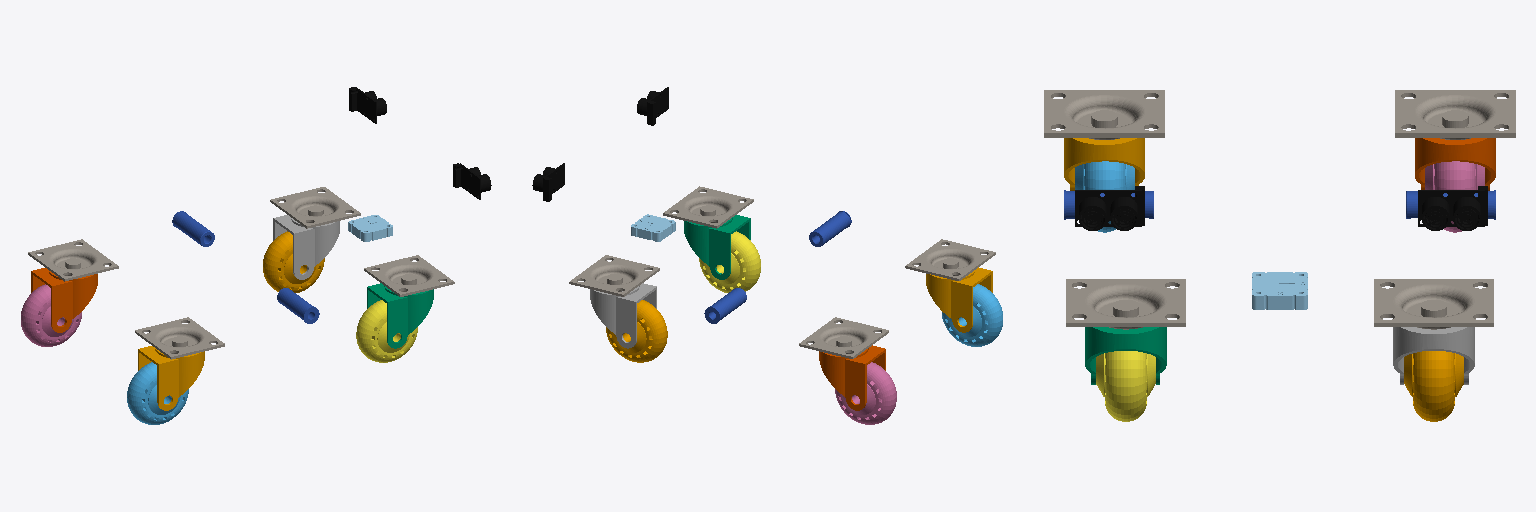
--- Render facts (derived) ---
Views: 3 orthographic renders of the robot side by side, from view 1: azimuth 30°, elevation 25°; view 2: azimuth 150°, elevation 25°; view 3: azimuth 270°, elevation 25°.
Robot: former — 26 links, 25 joints (10 continuous, 15 fixed); root link base_footprint; default pose: all joints at 0.
Links seen in each view (by area): view 1: f_l_caster_rotate, r_r_caster_rotate, r_l_caster_rotate, f_r_caster_rotate, r_l_caster_mount, f_r_caster_mount, r_r_caster_mount, f_l_caster_mount, f_r_caster_wheel, r_l_caster_wheel, r_r_caster_wheel, f_l_caster_wheel (+5 smaller); view 2: f_r_caster_rotate, r_l_caster_rotate, r_r_caster_rotate, f_l_caster_rotate, r_r_caster_mount, f_r_caster_mount, f_l_caster_mount, r_l_caster_mount, f_l_caster_wheel, r_r_caster_wheel, r_l_caster_wheel, f_r_caster_wheel (+5 smaller); view 3: r_l_caster_mount, r_r_caster_mount, f_l_caster_mount, f_r_caster_mount, f_l_caster_wheel, f_r_caster_wheel, r_sonar_sensor, l_sonar_sensor, f_l_caster_rotate, f_r_caster_rotate, r_l_caster_rotate, r_r_caster_rotate (+5 smaller).
Link boxes in pixels (x1,y1,x2,y2): f_l_caster_rotate: (273,215,339,279); r_r_caster_rotate: (138,346,204,410); r_l_caster_rotate: (31,268,97,332); f_r_caster_rotate: (367,283,433,348); r_l_caster_mount: (28,239,118,281); f_r_caster_mount: (364,255,454,296); r_r_caster_mount: (135,317,224,359); f_l_caster_mount: (270,187,360,228); f_r_caster_wheel: (356,300,417,362); r_l_caster_wheel: (21,284,81,346); r_r_caster_wheel: (127,362,188,424); f_l_caster_wheel: (263,231,324,292); f_r_caster_rotate: (684,215,750,279); r_l_caster_rotate: (819,345,885,410); r_r_caster_rotate: (926,267,992,332); f_l_caster_rotate: (590,283,656,348); r_r_caster_mount: (905,239,995,280); f_r_caster_mount: (663,186,753,228); f_l_caster_mount: (569,255,659,296); r_l_caster_mount: (799,317,888,358); f_l_caster_wheel: (606,300,667,362); r_r_caster_wheel: (942,284,1002,346); r_l_caster_wheel: (835,362,896,424); f_r_caster_wheel: (699,231,760,292); r_l_caster_mount: (1395,90,1515,139); r_r_caster_mount: (1044,90,1164,139); f_l_caster_mount: (1374,279,1493,329); f_r_caster_mount: (1066,279,1185,329); f_l_caster_wheel: (1404,351,1463,421); f_r_caster_wheel: (1096,351,1155,421); r_sonar_sensor: (1075,186,1144,230); l_sonar_sensor: (1418,186,1487,230); f_l_caster_rotate: (1393,327,1474,384); f_r_caster_rotate: (1085,327,1166,384); r_l_caster_rotate: (1415,138,1495,190); r_r_caster_rotate: (1064,138,1144,190).
Bounding box of the posed robot: 0.3809 × 0.266 × 0.1795 m (x, y, z).
17 mesh visuals loaded from 10 distinct referenced files (6 Collada DAE); not drawn: 5 (reference not matched to a file when rendering).

URDF robot description (former):
<?xml version="1.0" ?>
<!-- =================================================================================== -->
<!-- |    This document was autogenerated by xacro from robot.urdf.xacro               | -->
<!-- |    EDITING THIS FILE BY HAND IS NOT RECOMMENDED                                 | -->
<!-- =================================================================================== -->
<robot name="former">
  <!-- <gazebo>
        <plugin filename="gz_ros2_control-system" name="gz_ros2_control::GazeboSimROS2ControlPlugin">
            <robot_param>robot_description</robot_param>
            <parameters>$(find former_bringup)/config/controllers_former_gazebo.yaml</parameters>
        </plugin>

        <plugin filename="gz-sim-sensors-system" name="gz::sim::systems::Sensors">
            <render_engine>ogre2</render_engine>
        </plugin>

        <plugin filename="gz-sim-imu-system" name="gz::sim::systems::Imu">
        </plugin>
    </gazebo> -->
  <gazebo reference="l_wheel">
    <mu1>200</mu1>
    <mu2>200</mu2>
    <kp>10000000.0</kp>
    <kd>1.0</kd>
    <!-- <minDepth>0.001</minDepth> -->
  </gazebo>
  <gazebo reference="r_wheel">
    <mu1>200</mu1>
    <mu2>200</mu2>
    <kp>10000000.0</kp>
    <kd>1.0</kd>
    <!-- <minDepth>0.001</minDepth> -->
  </gazebo>
  <gazebo reference="f_l_caster_wheel">
    <mu1>1</mu1>
    <mu2>1</mu2>
    <kp>10000000.0</kp>
    <kd>1.0</kd>
    <!-- <minDepth>0.001</minDepth> -->
  </gazebo>
  <gazebo reference="f_r_caster_wheel">
    <mu1>1</mu1>
    <mu2>1</mu2>
    <kp>10000000.0</kp>
    <kd>1.0</kd>
    <!-- <minDepth>0.001</minDepth> -->
  </gazebo>
  <gazebo reference="r_l_caster_wheel">
    <mu1>1</mu1>
    <mu2>1</mu2>
    <kp>10000000.0</kp>
    <kd>1.0</kd>
    <!-- <minDepth>0.001</minDepth> -->
  </gazebo>
  <gazebo reference="r_r_caster_wheel">
    <mu1>1</mu1>
    <mu2>1</mu2>
    <kp>10000000.0</kp>
    <kd>1.0</kd>
    <!-- <minDepth>0.001</minDepth> -->
  </gazebo>
  <gazebo reference="base_footprint">
    <self_collide>0</self_collide>
  </gazebo>
  <!-- <gazebo reference="laser_link">
        <sensor name="laser_link" type="gpu_lidar">
            <topic>scan</topic>
            <update_rate>15</update_rate>
            <alwaysOn>1</alwaysOn>
            <visualize>true</visualize>

            <lidar>
                <scan>
                    <horizontal>
                        <samples>640</samples>
                        <resolution>1</resolution>
                        <min_angle>${-110/180*pi}</min_angle>
                        <max_angle>${110/180*pi}</max_angle>
                    </horizontal>
                    <vertical>
                        <samples>1</samples>
                        <resolution>0.01</resolution>
                        <min_angle>0</min_angle>
                        <max_angle>0</max_angle>
                    </vertical>
                </scan>
                <range>
                    <min>0.08</min>
                    <max>15.0</max>
                    <resolution>0.01</resolution>
                </range>
                <noise>
                    <type>gaussian</type>
                    <mean>0.0</mean>
                    <stddev>0.02</stddev>
                </noise>
            </lidar>
        </sensor>
    </gazebo>

    <gazebo reference="imu_link">
        <sensor name="imu" type="imu">
            <always_on>1</always_on>
            <update_rate>100</update_rate>
            <visualize>true</visualize>
            <topic>imu</topic>
            <enable_metrics>true</enable_metrics>
        </sensor>
    </gazebo>
<gazebo reference="laser_link">
        <sensor name="laser_link" type="gpu_lidar">
            <topic>scan</topic>
            <update_rate>15</update_rate>
            <alwaysOn>1</alwaysOn>
            <visualize>true</visualize>

            <lidar>
                <scan>
                    <horizontal>
                        <samples>640</samples>
                        <resolution>1</resolution>
                        <min_angle>${-110/180*pi}</min_angle>
                        <max_angle>${110/180*pi}</max_angle>
                    </horizontal>
                    <vertical>
                        <samples>1</samples>
                        <resolution>0.01</resolution>
                        <min_angle>0</min_angle>
                        <max_angle>0</max_angle>
                    </vertical>
                </scan>
                <range>
                    <min>0.08</min>
                    <max>15.0</max>
                    <resolution>0.01</resolution>
                </range>
                <noise>
                    <type>gaussian</type>
                    <mean>0.0</mean>
                    <stddev>0.02</stddev>
                </noise>
            </lidar>
        </sensor>
    </gazebo>

    <gazebo reference="imu_link">
        <sensor name="imu" type="imu">
            <always_on>1</always_on>
            <update_rate>100</update_rate>
            <visualize>true</visualize>
            <topic>imu</topic>
            <enable_metrics>true</enable_metrics>
        </sensor>
    </gazebo>

    <gazebo reference="camera_link">
        <sensor name="rgbd_camera" type="rgbd_camera">
            <always_on>1</always_on>
            <update_rate>30</update_rate>
            <visualize>true</visualize>
            <topic>camera</topic>
            <enable_metrics>true</enable_metrics>
            <camera>
                <horizontal_fov>1.047</horizontal_fov>
                <image>
                    <width>640</width>
                    <height>480</height>
                </image>
                <clip>
                    <near>0.1</near>
                    <far>100</far>
                </clip>
            </camera>
            <noise>
                <type>gaussian</type>
                <mean>0.0</mean>
                <stddev>0.02</stddev>
            </noise>
        </sensor>
    </gazebo>
    <gazebo reference="camera_link">
        <sensor name="rgbd_camera" type="rgbd_camera">
            <always_on>1</always_on>
            <update_rate>30</update_rate>
            <visualize>true</visualize>
            <topic>camera</topic>
            <enable_metrics>true</enable_metrics>
            <camera>
                <horizontal_fov>1.047</horizontal_fov>
                <image>
                    <width>640</width>
                    <height>480</height>
                </image>
                <clip>
                    <near>0.1</near>
                    <far>100</far>
                </clip>
            </camera>
            <noise>
                <type>gaussian</type>
                <mean>0.0</mean>
                <stddev>0.02</stddev>
            </noise>
        </sensor>
    </gazebo> -->
  <material name="aluminum">
    <color rgba="0.5 0.5 0.5 1"/>
  </material>
  <material name="plastic">
    <color rgba="0.1 0.1 0.1 1"/>
  </material>
  <link name="base_footprint"/>
  <link name="base_link">
    <visual>
      <origin rpy="0 0 0" xyz="0 0 0"/>
      <geometry>
        <mesh filename="package://former_description/meshes/visual/base_link.dae" scale="1 1 1"/>
      </geometry>
    </visual>
    <collision>
      <origin rpy="0 0 0" xyz="0 0 0"/>
      <geometry>
        <mesh filename="package://former_description/meshes/collision/base_link.stl" scale="1 1 1"/>
      </geometry>
    </collision>
    <inertial>
      <origin rpy="0 0 0" xyz="0.000 0.000 0.096"/>
      <mass value="32.571233"/>
      <inertia ixx="0.639569" ixy="0.000014" ixz="0.000423" iyy="0.635798" iyz="0.000003" izz="0.798308"/>
    </inertial>
  </link>
  <joint name="base_link_fixed_joint" type="fixed">
    <parent link="base_footprint"/>
    <child link="base_link"/>
    <origin rpy="0 0 0" xyz="0 0 0.0845"/>
  </joint>
  <link name="l_wheel_mount">
    <visual>
      <origin rpy="0 0 1.5707963267948966" xyz="0 0 0"/>
      <geometry>
        <mesh filename="package://former_description/meshes/visual/main_wheel_mount.dae" scale="1 1 1"/>
      </geometry>
    </visual>
    <collision>
      <origin rpy="0 0 1.5707963267948966" xyz="0 0 0"/>
      <geometry>
        <mesh filename="package://former_description/meshes/collision/main_wheel_mount.stl" scale="1 1 1"/>
      </geometry>
    </collision>
    <inertial>
      <origin rpy="0 0 1.5707963267948966" xyz="0.026 0.000 0.000"/>
      <mass value="0.007885"/>
      <inertia ixx="0.000000" ixy="0.000000" ixz="0.000000" iyy="0.000002" iyz="0.000000" izz="0.000002"/>
    </inertial>
  </link>
  <joint name="l_wheel_mount_fixed" type="fixed">
    <parent link="base_link"/>
    <child link="l_wheel_mount"/>
    <origin rpy="0 0 0" xyz="0 0.0711 0"/>
  </joint>
  <link name="l_wheel">
    <visual>
      <origin rpy="0 0 1.5707963267948966" xyz="0 0 0"/>
      <geometry>
        <mesh filename="package://former_description/meshes/visual/main_wheel.dae" scale="1 1 1"/>
      </geometry>
    </visual>
    <collision>
      <!-- <origin xyz="0 ${dir*0.025} 0" rpy="${dir*pi/2} 0 0"/> -->
      <origin rpy="0 0 1.5707963267948966" xyz="0 0 0"/>
      <geometry>
        <!-- <cylinder radius="0.0845" length="0.05"/> -->
        <mesh filename="package://former_description/meshes/collision/main_wheel.stl" scale="1 1 1"/>
      </geometry>
    </collision>
    <inertial>
      <!-- <origin xyz="0 ${dir*0.025} 0" rpy="${dir*pi/2} 0 0"/> -->
      <origin rpy="0 0 0" xyz="0.000 0.031 0.000"/>
      <mass value="0.843041"/>
      <!-- <xacro:cylinder_inertia m="0.843041" r="0.0845" h="0.05"/> -->
      <inertia ixx="0.002632" ixy="0.000000" ixz="0.000000" iyy="0.001536" iyz="0.000000" izz="0.001536"/>
    </inertial>
  </link>
  <joint name="l_wheel_joint" type="continuous">
    <parent link="l_wheel_mount"/>
    <child link="l_wheel"/>
    <axis xyz="0 1 0"/>
    <origin rpy="0 0 0" xyz="0 0.051 0"/>
  </joint>
  <link name="r_wheel_mount">
    <visual>
      <origin rpy="0 0 -1.5707963267948966" xyz="0 0 0"/>
      <geometry>
        <mesh filename="package://former_description/meshes/visual/main_wheel_mount.dae" scale="1 1 1"/>
      </geometry>
    </visual>
    <collision>
      <origin rpy="0 0 -1.5707963267948966" xyz="0 0 0"/>
      <geometry>
        <mesh filename="package://former_description/meshes/collision/main_wheel_mount.stl" scale="1 1 1"/>
      </geometry>
    </collision>
    <inertial>
      <origin rpy="0 0 -1.5707963267948966" xyz="0.026 0.000 0.000"/>
      <mass value="0.007885"/>
      <inertia ixx="0.000000" ixy="0.000000" ixz="0.000000" iyy="0.000002" iyz="0.000000" izz="0.000002"/>
    </inertial>
  </link>
  <joint name="r_wheel_mount_fixed" type="fixed">
    <parent link="base_link"/>
    <child link="r_wheel_mount"/>
    <origin rpy="0 0 0" xyz="0 -0.0711 0"/>
  </joint>
  <link name="r_wheel">
    <visual>
      <origin rpy="0 0 -1.5707963267948966" xyz="0 0 0"/>
      <geometry>
        <mesh filename="package://former_description/meshes/visual/main_wheel.dae" scale="1 1 1"/>
      </geometry>
    </visual>
    <collision>
      <!-- <origin xyz="0 ${dir*0.025} 0" rpy="${dir*pi/2} 0 0"/> -->
      <origin rpy="0 0 -1.5707963267948966" xyz="0 0 0"/>
      <geometry>
        <!-- <cylinder radius="0.0845" length="0.05"/> -->
        <mesh filename="package://former_description/meshes/collision/main_wheel.stl" scale="1 1 1"/>
      </geometry>
    </collision>
    <inertial>
      <!-- <origin xyz="0 ${dir*0.025} 0" rpy="${dir*pi/2} 0 0"/> -->
      <origin rpy="0 0 0" xyz="0.000 -0.031 0.000"/>
      <mass value="0.843041"/>
      <!-- <xacro:cylinder_inertia m="0.843041" r="0.0845" h="0.05"/> -->
      <inertia ixx="0.002632" ixy="0.000000" ixz="0.000000" iyy="0.001536" iyz="0.000000" izz="0.001536"/>
    </inertial>
  </link>
  <joint name="r_wheel_joint" type="continuous">
    <parent link="r_wheel_mount"/>
    <child link="r_wheel"/>
    <axis xyz="0 1 0"/>
    <origin rpy="0 0 0" xyz="0 -0.051 0"/>
  </joint>
  <link name="f_l_caster_mount">
    <visual>
      <origin rpy="0 0 0" xyz="0 0 0"/>
      <geometry>
        <mesh filename="package://former_description/meshes/visual/caster_mount.dae" scale="1 1 1"/>
      </geometry>
    </visual>
    <collision>
      <origin rpy="0 0 0" xyz="0 0 0"/>
      <geometry>
        <mesh filename="package://former_description/meshes/collision/caster_mount.stl" scale="1 1 1"/>
      </geometry>
    </collision>
    <inertial>
      <origin rpy="0 0 0" xyz="0.000 0.000 -0.004"/>
      <mass value="0.019629"/>
      <inertia ixx="0.000006" ixy="0.000000" ixz="0.000000" iyy="0.000005" iyz="0.000000" izz="0.000010"/>
    </inertial>
  </link>
  <joint name="f_l_caster_mount_fixed_joint" type="fixed">
    <parent link="base_link"/>
    <child link="f_l_caster_mount"/>
    <origin rpy="0 0 0" xyz="0.125 0.087 -0.0015"/>
  </joint>
  <link name="f_l_caster_rotate">
    <visual>
      <origin rpy="0 0 0" xyz="0 0 0"/>
      <geometry>
        <mesh filename="package://former_description/meshes/visual/caster_rotate.dae" scale="1 1 1"/>
      </geometry>
    </visual>
    <collision>
      <origin rpy="0 0 0" xyz="0 0 0"/>
      <geometry>
        <mesh filename="package://former_description/meshes/collision/caster_rotate.stl" scale="1 1 1"/>
      </geometry>
    </collision>
    <inertial>
      <origin rpy="0 0 0" xyz="-0.012 0.000 -0.021"/>
      <mass value="0.060591"/>
      <inertia ixx="0.000020" ixy="0.000000" ixz="-0.000004" iyy="0.000022" iyz="0.000000" izz="0.000020"/>
    </inertial>
  </link>
  <joint name="f_l_caster_rotate_joint" type="continuous">
    <parent link="f_l_caster_mount"/>
    <child link="f_l_caster_rotate"/>
    <axis xyz="0 0 1"/>
    <origin rpy="0 0 0" xyz="0 0 -0.010"/>
  </joint>
  <link name="f_l_caster_wheel">
    <visual>
      <origin rpy="0 0 0" xyz="0 0 0"/>
      <geometry>
        <mesh filename="package://former_description/meshes/visual/caster_wheel.dae" scale="1 1 1"/>
      </geometry>
    </visual>
    <collision>
      <origin rpy="0 0 0" xyz="0 0 0"/>
      <geometry>
        <mesh filename="package://former_description/meshes/collision/caster_wheel.stl" scale="1 1 1"/>
        <!-- <cylinder radius="0.0375" length="0.023"/> -->
      </geometry>
    </collision>
    <inertial>
      <origin rpy="0 0 0" xyz="0.000 0.000 0.000"/>
      <mass value="0.051842"/>
      <!-- <xacro:cylinder_inertia m="0.032222" r="0.0375" h="0.023"/> -->
      <inertia ixx="0.000013" ixy="0.000000" ixz="0.000000" iyy="0.000021" iyz="0.000000" izz="0.000013"/>
    </inertial>
  </link>
  <joint name="f_l_caster_wheel_joint" type="continuous">
    <parent link="f_l_caster_rotate"/>
    <child link="f_l_caster_wheel"/>
    <axis xyz="0 1 0"/>
    <origin rpy="0 0 0" xyz="-0.0235 0 -0.0415"/>
  </joint>
  <link name="f_r_caster_mount">
    <visual>
      <origin rpy="0 0 0" xyz="0 0 0"/>
      <geometry>
        <mesh filename="package://former_description/meshes/visual/caster_mount.dae" scale="1 1 1"/>
      </geometry>
    </visual>
    <collision>
      <origin rpy="0 0 0" xyz="0 0 0"/>
      <geometry>
        <mesh filename="package://former_description/meshes/collision/caster_mount.stl" scale="1 1 1"/>
      </geometry>
    </collision>
    <inertial>
      <origin rpy="0 0 0" xyz="0.000 0.000 -0.004"/>
      <mass value="0.019629"/>
      <inertia ixx="0.000006" ixy="0.000000" ixz="0.000000" iyy="0.000005" iyz="0.000000" izz="0.000010"/>
    </inertial>
  </link>
  <joint name="f_r_caster_mount_fixed_joint" type="fixed">
    <parent link="base_link"/>
    <child link="f_r_caster_mount"/>
    <origin rpy="0 0 0" xyz="0.125 -0.087 -0.0015"/>
  </joint>
  <link name="f_r_caster_rotate">
    <visual>
      <origin rpy="0 0 0" xyz="0 0 0"/>
      <geometry>
        <mesh filename="package://former_description/meshes/visual/caster_rotate.dae" scale="1 1 1"/>
      </geometry>
    </visual>
    <collision>
      <origin rpy="0 0 0" xyz="0 0 0"/>
      <geometry>
        <mesh filename="package://former_description/meshes/collision/caster_rotate.stl" scale="1 1 1"/>
      </geometry>
    </collision>
    <inertial>
      <origin rpy="0 0 0" xyz="-0.012 0.000 -0.021"/>
      <mass value="0.060591"/>
      <inertia ixx="0.000020" ixy="0.000000" ixz="-0.000004" iyy="0.000022" iyz="0.000000" izz="0.000020"/>
    </inertial>
  </link>
  <joint name="f_r_caster_rotate_joint" type="continuous">
    <parent link="f_r_caster_mount"/>
    <child link="f_r_caster_rotate"/>
    <axis xyz="0 0 1"/>
    <origin rpy="0 0 0" xyz="0 0 -0.010"/>
  </joint>
  <link name="f_r_caster_wheel">
    <visual>
      <origin rpy="0 0 0" xyz="0 0 0"/>
      <geometry>
        <mesh filename="package://former_description/meshes/visual/caster_wheel.dae" scale="1 1 1"/>
      </geometry>
    </visual>
    <collision>
      <origin rpy="0 0 0" xyz="0 0 0"/>
      <geometry>
        <mesh filename="package://former_description/meshes/collision/caster_wheel.stl" scale="1 1 1"/>
        <!-- <cylinder radius="0.0375" length="0.023"/> -->
      </geometry>
    </collision>
    <inertial>
      <origin rpy="0 0 0" xyz="0.000 0.000 0.000"/>
      <mass value="0.051842"/>
      <!-- <xacro:cylinder_inertia m="0.032222" r="0.0375" h="0.023"/> -->
      <inertia ixx="0.000013" ixy="0.000000" ixz="0.000000" iyy="0.000021" iyz="0.000000" izz="0.000013"/>
    </inertial>
  </link>
  <joint name="f_r_caster_wheel_joint" type="continuous">
    <parent link="f_r_caster_rotate"/>
    <child link="f_r_caster_wheel"/>
    <axis xyz="0 1 0"/>
    <origin rpy="0 0 0" xyz="-0.0235 0 -0.0415"/>
  </joint>
  <link name="r_l_caster_mount">
    <visual>
      <origin rpy="0 0 0" xyz="0 0 0"/>
      <geometry>
        <mesh filename="package://former_description/meshes/visual/caster_mount.dae" scale="1 1 1"/>
      </geometry>
    </visual>
    <collision>
      <origin rpy="0 0 0" xyz="0 0 0"/>
      <geometry>
        <mesh filename="package://former_description/meshes/collision/caster_mount.stl" scale="1 1 1"/>
      </geometry>
    </collision>
    <inertial>
      <origin rpy="0 0 0" xyz="0.000 0.000 -0.004"/>
      <mass value="0.019629"/>
      <inertia ixx="0.000006" ixy="0.000000" ixz="0.000000" iyy="0.000005" iyz="0.000000" izz="0.000010"/>
    </inertial>
  </link>
  <joint name="r_l_caster_mount_fixed_joint" type="fixed">
    <parent link="base_link"/>
    <child link="r_l_caster_mount"/>
    <origin rpy="0 0 0" xyz="-0.128 0.099 -0.0015"/>
  </joint>
  <link name="r_l_caster_rotate">
    <visual>
      <origin rpy="0 0 0" xyz="0 0 0"/>
      <geometry>
        <mesh filename="package://former_description/meshes/visual/caster_rotate.dae" scale="1 1 1"/>
      </geometry>
    </visual>
    <collision>
      <origin rpy="0 0 0" xyz="0 0 0"/>
      <geometry>
        <mesh filename="package://former_description/meshes/collision/caster_rotate.stl" scale="1 1 1"/>
      </geometry>
    </collision>
    <inertial>
      <origin rpy="0 0 0" xyz="-0.012 0.000 -0.021"/>
      <mass value="0.060591"/>
      <inertia ixx="0.000020" ixy="0.000000" ixz="-0.000004" iyy="0.000022" iyz="0.000000" izz="0.000020"/>
    </inertial>
  </link>
  <joint name="r_l_caster_rotate_joint" type="continuous">
    <parent link="r_l_caster_mount"/>
    <child link="r_l_caster_rotate"/>
    <axis xyz="0 0 1"/>
    <origin rpy="0 0 0" xyz="0 0 -0.010"/>
  </joint>
  <link name="r_l_caster_wheel">
    <visual>
      <origin rpy="0 0 0" xyz="0 0 0"/>
      <geometry>
        <mesh filename="package://former_description/meshes/visual/caster_wheel.dae" scale="1 1 1"/>
      </geometry>
    </visual>
    <collision>
      <origin rpy="0 0 0" xyz="0 0 0"/>
      <geometry>
        <mesh filename="package://former_description/meshes/collision/caster_wheel.stl" scale="1 1 1"/>
        <!-- <cylinder radius="0.0375" length="0.023"/> -->
      </geometry>
    </collision>
    <inertial>
      <origin rpy="0 0 0" xyz="0.000 0.000 0.000"/>
      <mass value="0.051842"/>
      <!-- <xacro:cylinder_inertia m="0.032222" r="0.0375" h="0.023"/> -->
      <inertia ixx="0.000013" ixy="0.000000" ixz="0.000000" iyy="0.000021" iyz="0.000000" izz="0.000013"/>
    </inertial>
  </link>
  <joint name="r_l_caster_wheel_joint" type="continuous">
    <parent link="r_l_caster_rotate"/>
    <child link="r_l_caster_wheel"/>
    <axis xyz="0 1 0"/>
    <origin rpy="0 0 0" xyz="-0.0235 0 -0.0415"/>
  </joint>
  <link name="r_r_caster_mount">
    <visual>
      <origin rpy="0 0 0" xyz="0 0 0"/>
      <geometry>
        <mesh filename="package://former_description/meshes/visual/caster_mount.dae" scale="1 1 1"/>
      </geometry>
    </visual>
    <collision>
      <origin rpy="0 0 0" xyz="0 0 0"/>
      <geometry>
        <mesh filename="package://former_description/meshes/collision/caster_mount.stl" scale="1 1 1"/>
      </geometry>
    </collision>
    <inertial>
      <origin rpy="0 0 0" xyz="0.000 0.000 -0.004"/>
      <mass value="0.019629"/>
      <inertia ixx="0.000006" ixy="0.000000" ixz="0.000000" iyy="0.000005" iyz="0.000000" izz="0.000010"/>
    </inertial>
  </link>
  <joint name="r_r_caster_mount_fixed_joint" type="fixed">
    <parent link="base_link"/>
    <child link="r_r_caster_mount"/>
    <origin rpy="0 0 0" xyz="-0.128 -0.099 -0.0015"/>
  </joint>
  <link name="r_r_caster_rotate">
    <visual>
      <origin rpy="0 0 0" xyz="0 0 0"/>
      <geometry>
        <mesh filename="package://former_description/meshes/visual/caster_rotate.dae" scale="1 1 1"/>
      </geometry>
    </visual>
    <collision>
      <origin rpy="0 0 0" xyz="0 0 0"/>
      <geometry>
        <mesh filename="package://former_description/meshes/collision/caster_rotate.stl" scale="1 1 1"/>
      </geometry>
    </collision>
    <inertial>
      <origin rpy="0 0 0" xyz="-0.012 0.000 -0.021"/>
      <mass value="0.060591"/>
      <inertia ixx="0.000020" ixy="0.000000" ixz="-0.000004" iyy="0.000022" iyz="0.000000" izz="0.000020"/>
    </inertial>
  </link>
  <joint name="r_r_caster_rotate_joint" type="continuous">
    <parent link="r_r_caster_mount"/>
    <child link="r_r_caster_rotate"/>
    <axis xyz="0 0 1"/>
    <origin rpy="0 0 0" xyz="0 0 -0.010"/>
  </joint>
  <link name="r_r_caster_wheel">
    <visual>
      <origin rpy="0 0 0" xyz="0 0 0"/>
      <geometry>
        <mesh filename="package://former_description/meshes/visual/caster_wheel.dae" scale="1 1 1"/>
      </geometry>
    </visual>
    <collision>
      <origin rpy="0 0 0" xyz="0 0 0"/>
      <geometry>
        <mesh filename="package://former_description/meshes/collision/caster_wheel.stl" scale="1 1 1"/>
        <!-- <cylinder radius="0.0375" length="0.023"/> -->
      </geometry>
    </collision>
    <inertial>
      <origin rpy="0 0 0" xyz="0.000 0.000 0.000"/>
      <mass value="0.051842"/>
      <!-- <xacro:cylinder_inertia m="0.032222" r="0.0375" h="0.023"/> -->
      <inertia ixx="0.000013" ixy="0.000000" ixz="0.000000" iyy="0.000021" iyz="0.000000" izz="0.000013"/>
    </inertial>
  </link>
  <joint name="r_r_caster_wheel_joint" type="continuous">
    <parent link="r_r_caster_rotate"/>
    <child link="r_r_caster_wheel"/>
    <axis xyz="0 1 0"/>
    <origin rpy="0 0 0" xyz="-0.0235 0 -0.0415"/>
  </joint>
  <link name="imu_sensor">
    <visual>
      <origin rpy="0 0 0" xyz="0 0 0"/>
      <geometry>
        <mesh filename="package://former_description/meshes/visual/imu.dae" scale="1 1 1"/>
      </geometry>
    </visual>
    <collision>
      <origin rpy="0 0 0" xyz="0 0 0"/>
      <geometry>
        <mesh filename="package://former_description/meshes/collision/imu.stl" scale="1 1 1"/>
      </geometry>
    </collision>
    <inertial>
      <origin rpy="0 0 0" xyz="0.0 0.0 0.0045"/>
      <mass value="0.1"/>
      <inertia ixx="2.9466666666666663e-06" ixy="0" ixz="0" iyy="2.9466666666666663e-06" iyz="0" izz="5.461333333333334e-06"/>
    </inertial>
  </link>
  <joint name="imu_sensor_fixed_joint" type="fixed">
    <parent link="base_link"/>
    <child link="imu_sensor"/>
    <origin rpy="0 0 0" xyz="0.134 0 0.0045"/>
  </joint>
  <link name="imu_link"/>
  <joint name="imu_link_fixed_joint" type="fixed">
    <parent link="imu_sensor"/>
    <child link="imu_link"/>
    <origin xyz="0.0 0.0 0.009"/>
  </joint>
  <link name="l_sonar_sensor">
    <visual>
      <origin rpy="0 0 0" xyz="0 0 0"/>
      <geometry>
        <mesh filename="package://former_description/meshes/visual/sonar_sensor.dae" scale="1 1 1"/>
      </geometry>
    </visual>
    <collision>
      <origin rpy="0 0 0" xyz="0 0 0"/>
      <geometry>
        <mesh filename="package://former_description/meshes/collision/sonar_sensor.stl" scale="1 1 1"/>
      </geometry>
    </collision>
    <inertial>
      <origin rpy="0 0 0" xyz="0.004 0.002 0.000"/>
      <mass value="0.009290"/>
      <inertia ixx="0.000001" ixy="0.000000" ixz="0.000000" iyy="0.000001" iyz="0.000000" izz="0.000001"/>
    </inertial>
  </link>
  <joint name="l_sonar_sensor_fixed" type="fixed">
    <parent link="base_link"/>
    <child link="l_sonar_sensor"/>
    <origin rpy="0 0 0" xyz="0.184 0.0968 0.084"/>
  </joint>
  <link name="r_sonar_sensor">
    <visual>
      <origin rpy="0 0 0" xyz="0 0 0"/>
      <geometry>
        <mesh filename="package://former_description/meshes/visual/sonar_sensor.dae" scale="1 1 1"/>
      </geometry>
    </visual>
    <collision>
      <origin rpy="0 0 0" xyz="0 0 0"/>
      <geometry>
        <mesh filename="package://former_description/meshes/collision/sonar_sensor.stl" scale="1 1 1"/>
      </geometry>
    </collision>
    <inertial>
      <origin rpy="0 0 0" xyz="0.004 0.002 0.000"/>
      <mass value="0.009290"/>
      <inertia ixx="0.000001" ixy="0.000000" ixz="0.000000" iyy="0.000001" iyz="0.000000" izz="0.000001"/>
    </inertial>
  </link>
  <joint name="r_sonar_sensor_fixed" type="fixed">
    <parent link="base_link"/>
    <child link="r_sonar_sensor"/>
    <origin rpy="0 0 0" xyz="0.184 -0.0968 0.084"/>
  </joint>
  <link name="lidar_mount">
    <visual>
      <origin rpy="0 0 0" xyz="0 0 0"/>
      <geometry>
        <mesh filename="package://former_description/meshes/visual/sick_tim5_lidar.dae" scale="1 1 1"/>
      </geometry>
    </visual>
    <collision>
      <origin rpy="0 0 0" xyz="0 0 0"/>
      <geometry>
        <mesh filename="package://former_description/meshes/collision/sick_tim5_lidar.stl" scale="1 1 1"/>
      </geometry>
    </collision>
    <inertial>
      <origin rpy="0 0 0" xyz="-0.002 0.000 0.036"/>
      <mass value="0.180090"/>
      <inertia ixx="0.000139" ixy="0.000000" ixz="0.000002" iyy="0.000129" iyz="0.000000" izz="0.000094"/>
    </inertial>
  </link>
  <joint name="lidar_mount_fixed_joint" type="fixed">
    <parent link="base_link"/>
    <child link="lidar_mount"/>
    <origin rpy="3.141592653589793 0 0" xyz="0.160 0 0.2275"/>
  </joint>
  <link name="laser_link"/>
  <joint name="laser_link_fixed_joint" type="fixed">
    <parent link="lidar_mount"/>
    <child link="laser_link"/>
    <origin rpy="3.141592653589793 0 0" xyz="0 0 0.060"/>
  </joint>
  <!-- camera body, with origin at bottom screw mount -->
  <joint name="camera_joint" type="fixed">
    <origin rpy="0 -0.2617993877991494 0" xyz="0.1777 0 0.06715"/>
    <parent link="base_link"/>
    <child link="camera_bottom_screw_frame"/>
  </joint>
  <link name="camera_bottom_screw_frame"/>
  <joint name="camera_link_joint" type="fixed">
    <origin rpy="0 0 0" xyz="0.010600000000000002 0.0175 0.0125"/>
    <parent link="camera_bottom_screw_frame"/>
    <child link="camera_link"/>
  </joint>
  <link name="camera_link">
    <visual>
      <!-- the mesh origin is at front plate in between the two infrared camera axes -->
      <origin rpy="1.5707963267948966 0 1.5707963267948966" xyz="0.0043 -0.0175 0"/>
      <geometry>
        <mesh filename="package://realsense2_description/meshes/d435.dae"/>
      </geometry>
    </visual>
    <collision>
      <origin rpy="0 0 0" xyz="0 -0.0175 0"/>
      <geometry>
        <box size="0.02505 0.09 0.025"/>
      </geometry>
    </collision>
    <inertial>
      <!-- The following are not reliable values, and should not be used for modeling -->
      <mass value="0.072"/>
      <origin xyz="0 0 0"/>
      <inertia ixx="0.003881243" ixy="0.0" ixz="0.0" iyy="0.000498940" iyz="0.0" izz="0.003879257"/>
    </inertial>
  </link>
  <ros2_control name="former_system" type="system">
    <!-- Real robot hardware_interface -->
    <joint name="l_wheel_joint">
      <command_interface name="velocity">
        <param name="min">-1.0</param>
        <param name="max">1.0</param>
      </command_interface>
      <state_interface name="position"/>
      <state_interface name="velocity"/>
    </joint>
    <joint name="r_wheel_joint">
      <command_interface name="velocity">
        <param name="min">-1.0</param>
        <param name="max">1.0</param>
      </command_interface>
      <state_interface name="position"/>
      <state_interface name="velocity"/>
    </joint>
  </ros2_control>
</robot>
